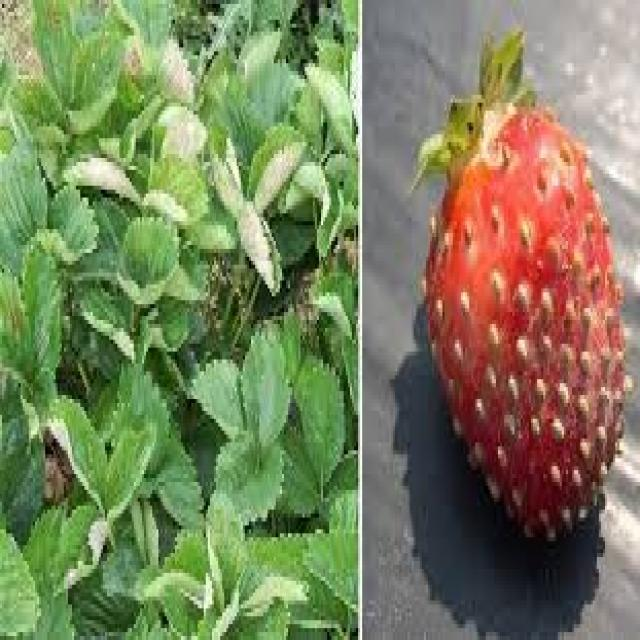Oído: (423, 75, 625, 560)
